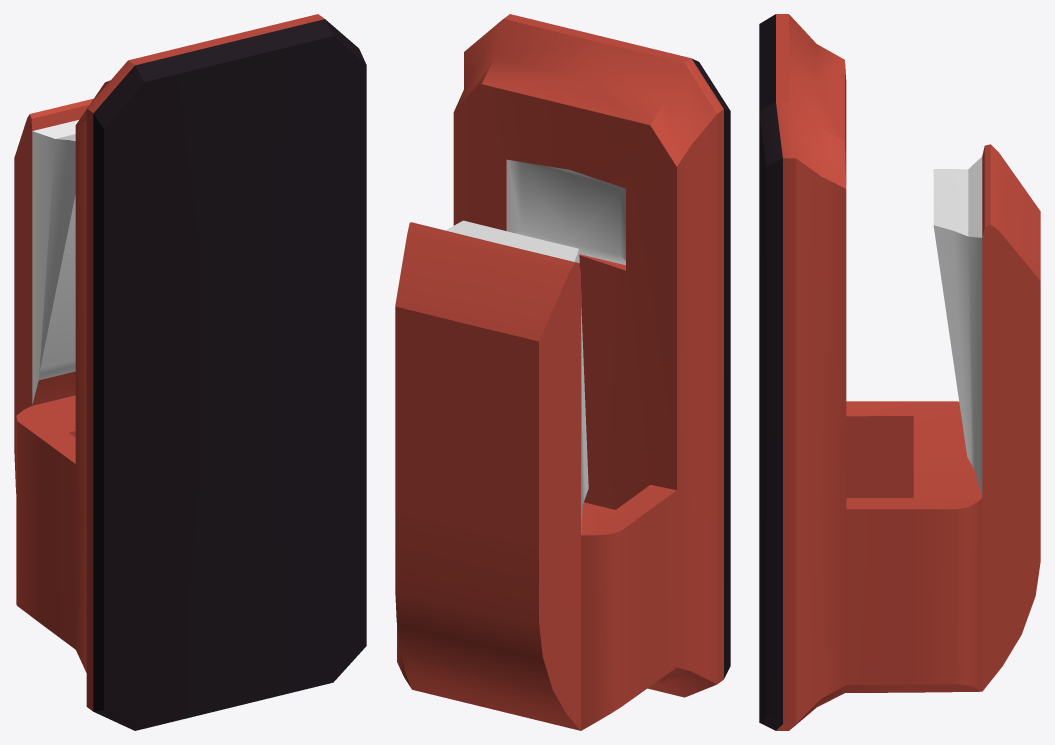
Rendered from Stapler.fbx.
3 views of the same model, side by side, from view 1: azimuth 30°, elevation 25°; view 2: azimuth 150°, elevation 25°; view 3: azimuth 270°, elevation 25° (orthographic). The views are drawn at different scales.
Visible parts, largest first — view 1: Cube; view 2: Cube; view 3: Cube.
Part boxes in pixels (x1,y1,x2,y2): Cube: (14, 14, 366, 730); Cube: (395, 14, 730, 730); Cube: (759, 14, 1040, 730).
Bounding box in the file's own units: 0.225 × 0.5384 × 0.2183.
